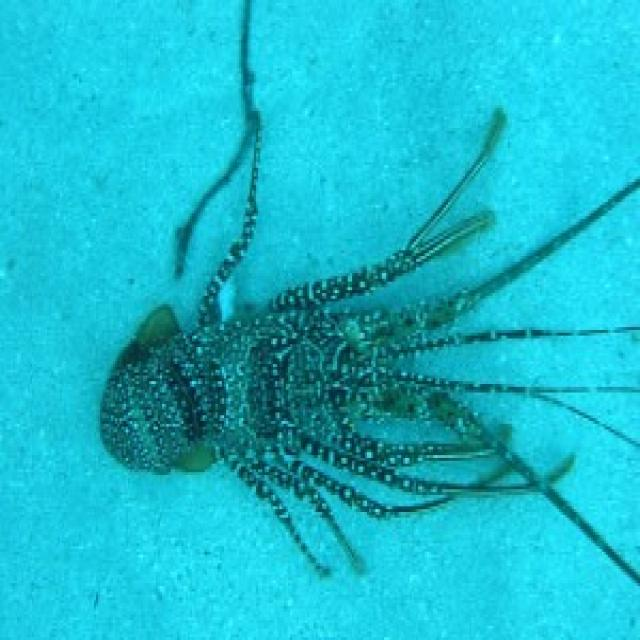lobsters: (57, 139, 640, 640)
